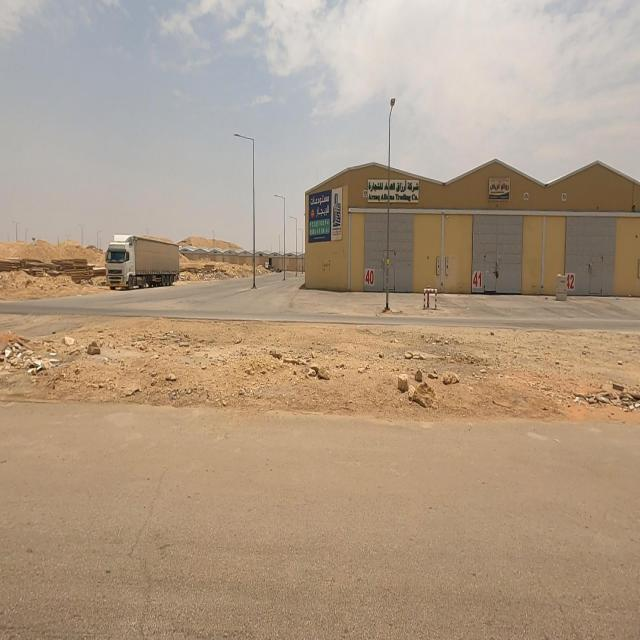debris: (0, 295, 98, 433), (547, 346, 640, 446), (1, 238, 82, 315), (60, 234, 130, 306), (38, 242, 84, 296)
